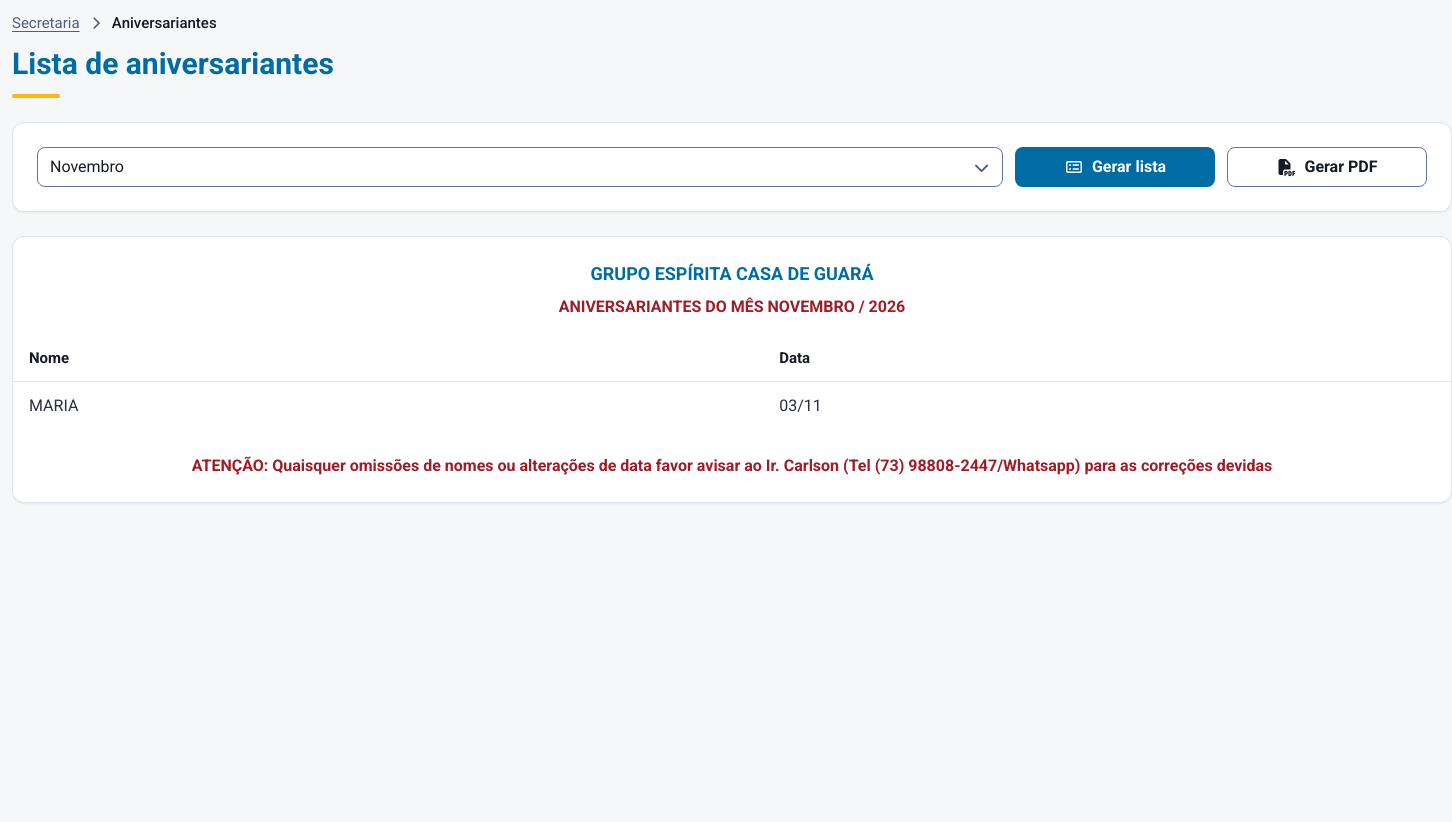
Test: TU-39 changing the month clears the PDF › revokes and removes the ready PDF
The width and height of the screenshot is (1452, 822).
Click the button "Gerar PDF" at (1327,167), box 1227,147 -> 1427,187
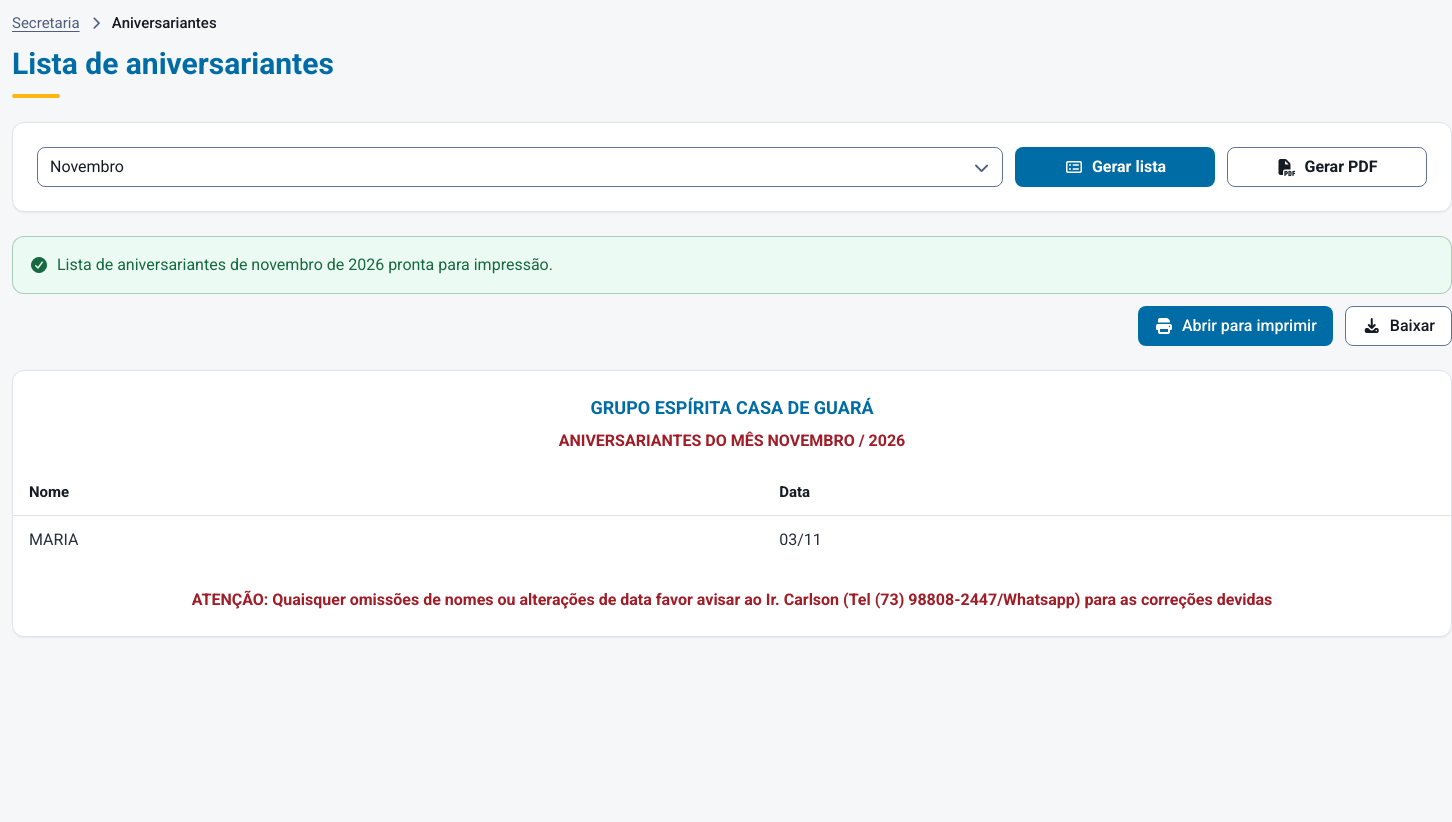
Select "Novembro" in the dropdown named "mes" at (520,167), box 37,147 -> 1003,187
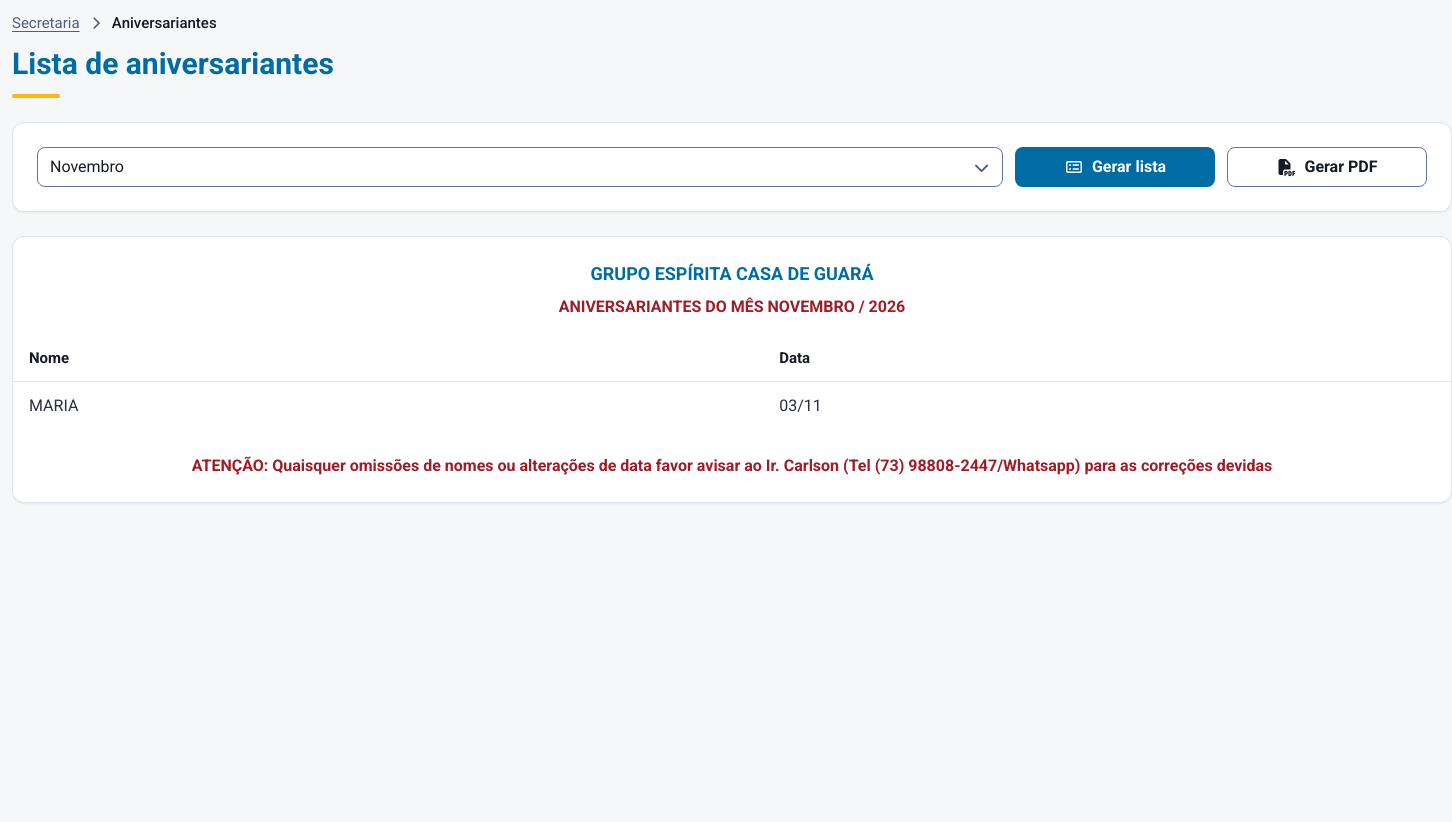
Now the message "Lista de aniversariantes de novembro de 2026 pronta para impressão." is gone
